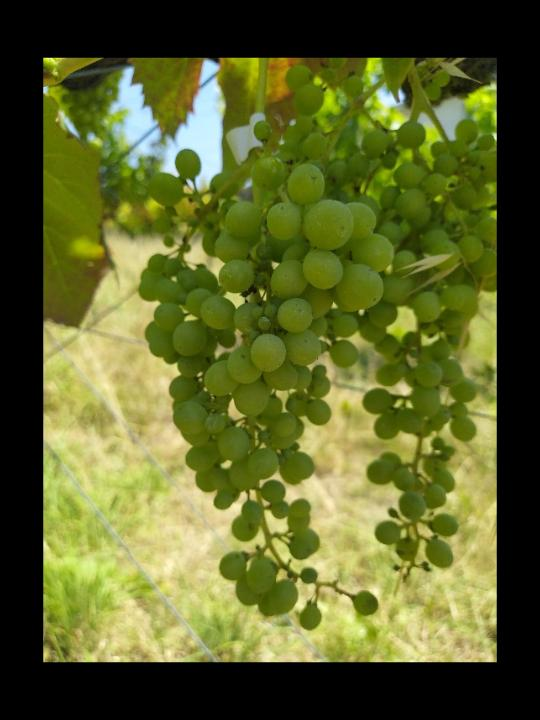grape: (132, 118, 398, 634)
